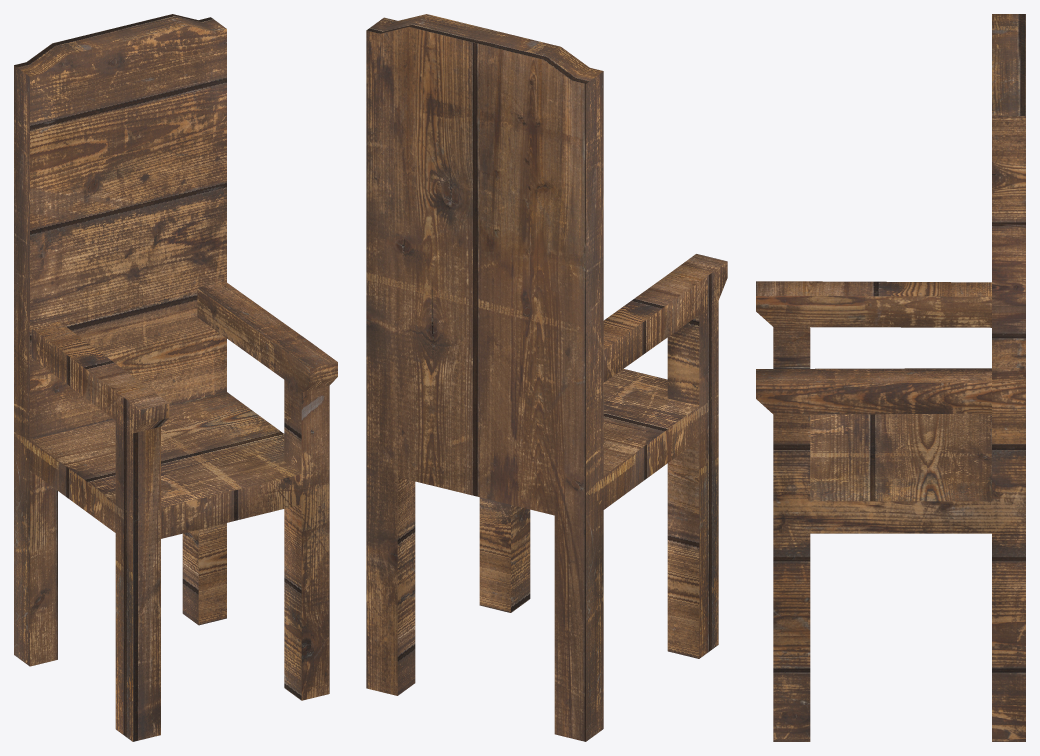
The model's file is Chair_1.gltf.
The picture shows the model from 3 angles, left to right: view 1: azimuth 30°, elevation 25°; view 2: azimuth 150°, elevation 25°; view 3: azimuth 270°, elevation 25°; orthographic projection. The views are drawn at different scales.
Parts seen in each view (by area): view 1: Chair_1; view 2: Chair_1; view 3: Chair_1.
Part boxes in pixels (x1,y1,x2,y2): Chair_1: (14, 14, 337, 741); Chair_1: (366, 14, 727, 741); Chair_1: (756, 14, 1025, 741).
Bounding box in the file's own units: 2 × 5.85 × 2.24.
1 material, 1 textured.
